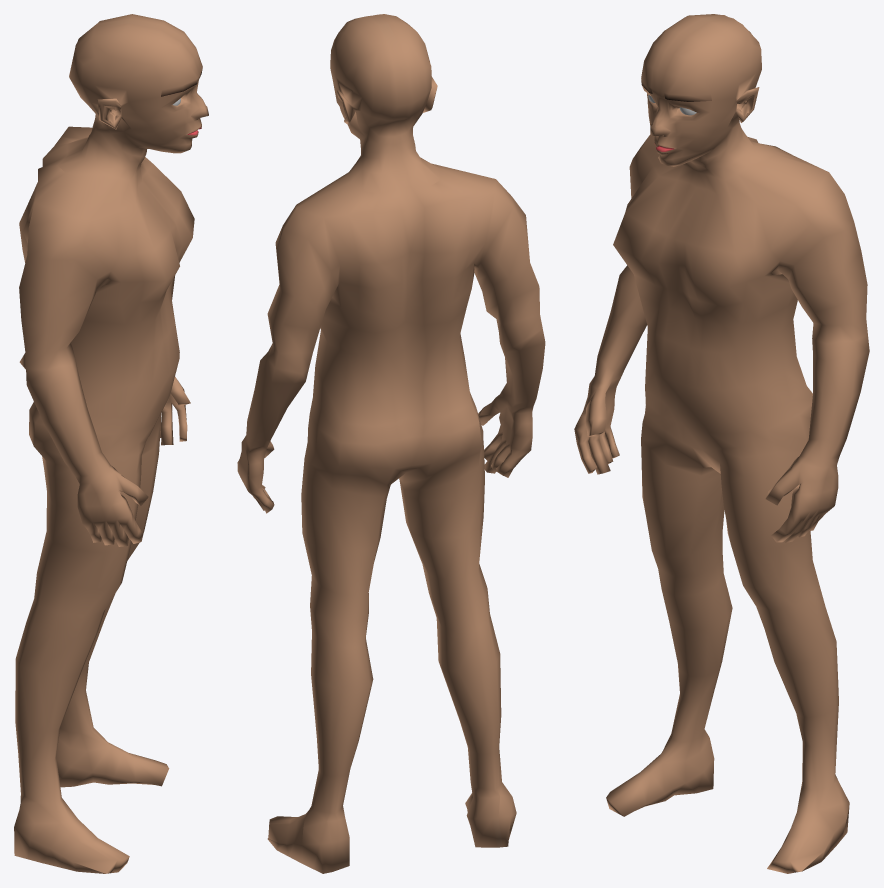
Rendered from boneco5.glb.
The picture shows the model from 3 angles, left to right: view 1: azimuth 30°, elevation 25°; view 2: azimuth 150°, elevation 25°; view 3: azimuth 270°, elevation 25°; orthographic projection. The views are drawn at different scales.
Parts seen in each view (by area): view 1: Plane.006; view 2: Plane.006; view 3: Plane.006.
Part boxes in pixels (x1,y1,x2,y2): Plane.006: (14, 14, 208, 873); Plane.006: (237, 14, 545, 873); Plane.006: (574, 14, 869, 873).
Bounding box in the file's own units: 1.05 × 3.45 × 1.13.
